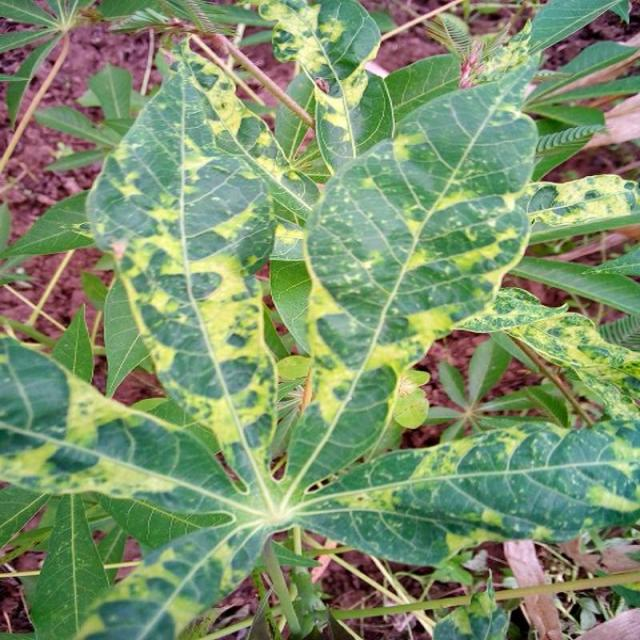cassava leaf: (2, 2, 640, 637), (287, 46, 543, 489), (84, 37, 315, 486)
